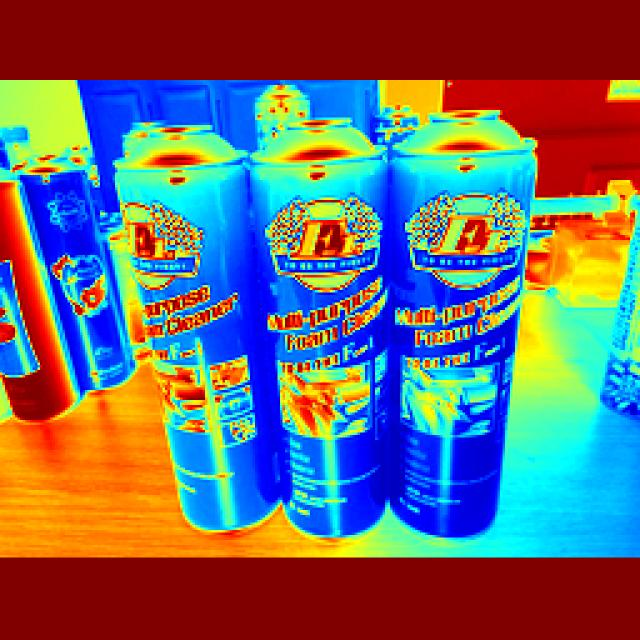Aerosol Cans: (112, 118, 283, 536), (391, 102, 523, 558), (262, 111, 392, 549)
